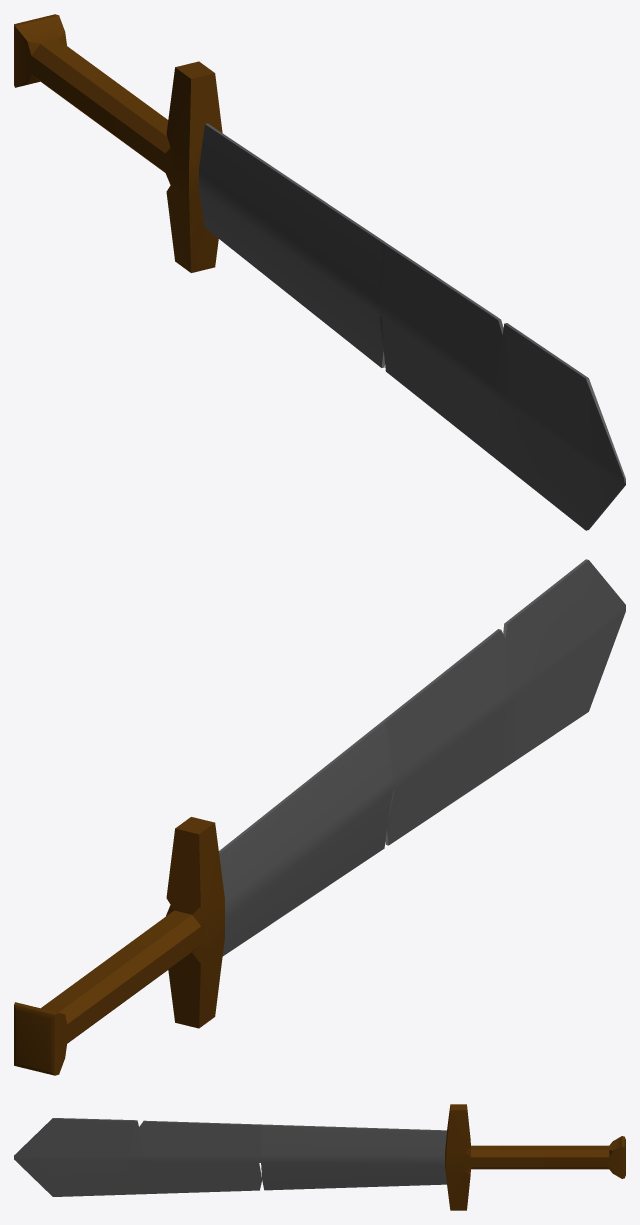
Rendered from Goblin_Sword.fbx.
The picture shows the model from 3 angles, top to bottom: view 1: azimuth 30°, elevation 25°; view 2: azimuth 150°, elevation 25°; view 3: azimuth 270°, elevation 25°; orthographic projection. The views are drawn at different scales.
Parts seen in each view (by area): view 1: pCube1; view 2: pCube1; view 3: pCube1.
Part boxes in pixels (box(x1,y1,x2,y2)): pCube1: box(14, 14, 625, 530); pCube1: box(14, 559, 625, 1075); pCube1: box(14, 1104, 625, 1210).
Bounding box in the file's own units: 0.0432 × 0.1819 × 1.
